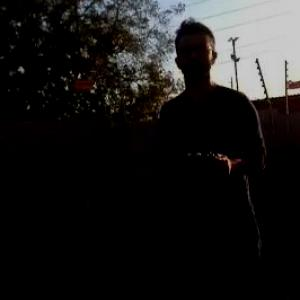follow: (153, 13, 274, 299)
